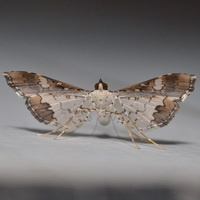insect: (3, 71, 195, 148)
